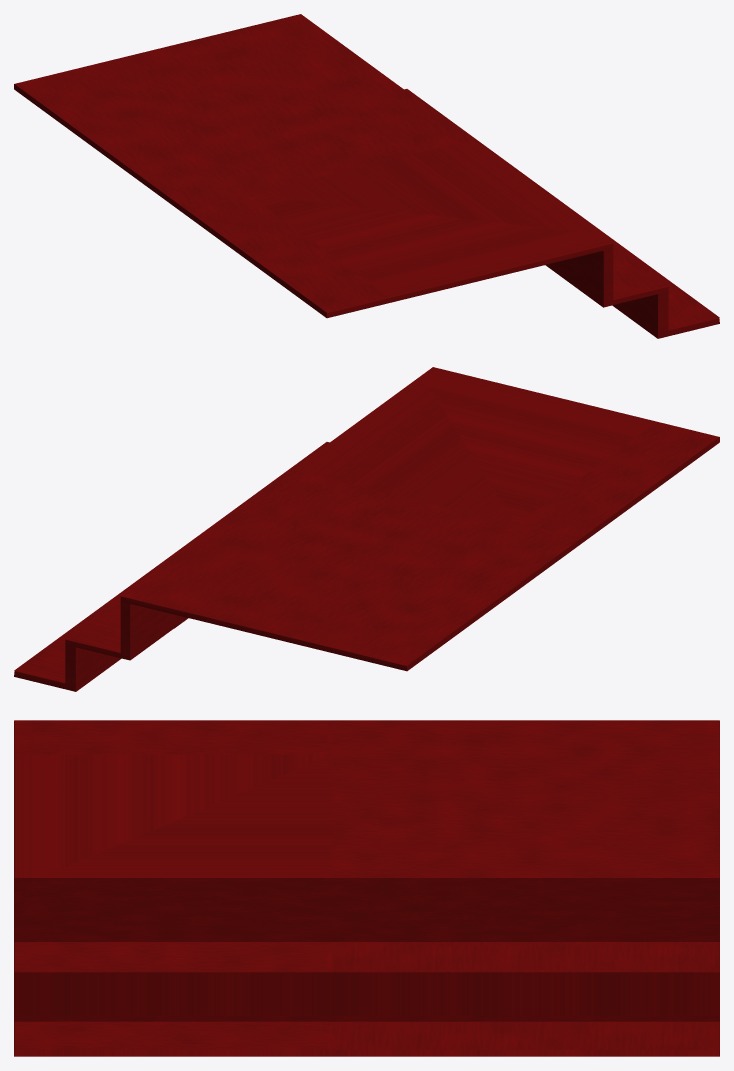
The picture shows the model from 3 angles, top to bottom: view 1: azimuth 30°, elevation 25°; view 2: azimuth 150°, elevation 25°; view 3: azimuth 270°, elevation 25°; orthographic projection. The views are drawn at different scales.
Parts seen in each view (by area): view 1: polySurface570; view 2: polySurface570; view 3: polySurface570.
Boxes of the visible parts, <box> form: polySurface570: <box>14,14,719,338</box>; polySurface570: <box>14,367,719,691</box>; polySurface570: <box>14,720,719,1056</box>.
Size of the model in its own units: 1.45 by 0.3766 by 2.
